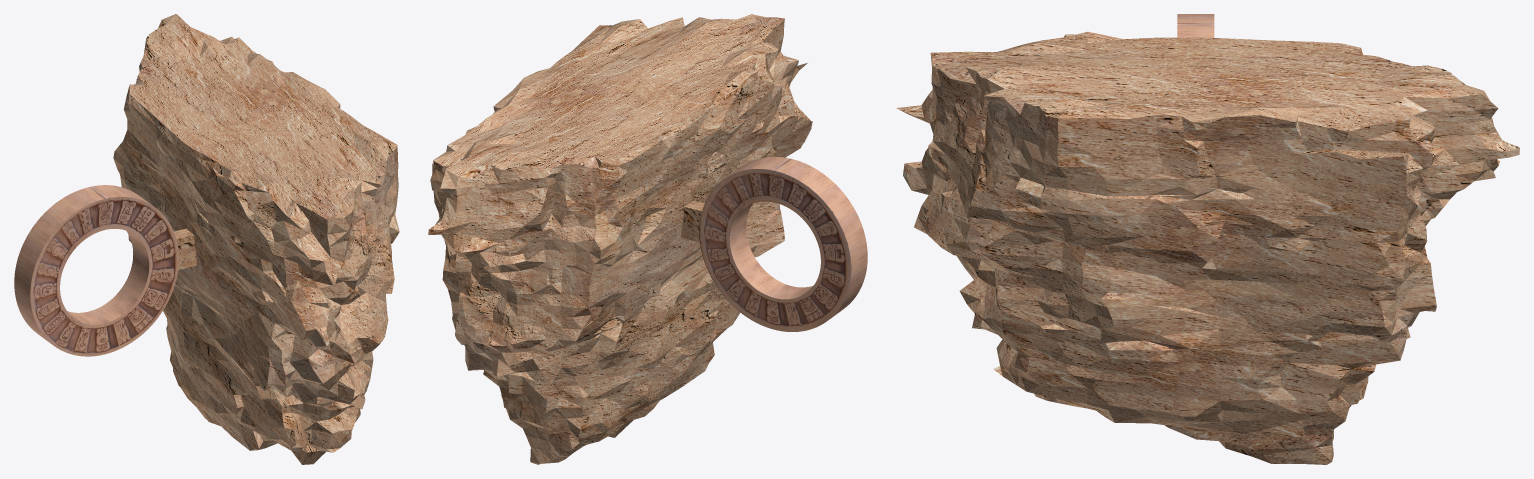
File: Roca_canasta_pequeña.obj
3 views of the same model, side by side, from view 1: azimuth 30°, elevation 25°; view 2: azimuth 150°, elevation 25°; view 3: azimuth 270°, elevation 25° (orthographic). The views are drawn at different scales.
Parts seen in each view (by area): view 1: Roca_2_12_Piedras, Roca_2_Material.001; view 2: Roca_2_12_Piedras, Roca_2_Material.001; view 3: Roca_2_12_Piedras, Roca_2_Material.001.
Boxes of the visible parts, x1,y1,x2,y2 form: Roca_2_12_Piedras: (113, 14, 399, 464); Roca_2_Material.001: (14, 185, 178, 356); Roca_2_12_Piedras: (428, 14, 812, 464); Roca_2_Material.001: (699, 156, 867, 331); Roca_2_12_Piedras: (896, 31, 1519, 464); Roca_2_Material.001: (1177, 14, 1214, 37).
Bounding box in the file's own units: 17.59 × 17.37 × 25.48.
